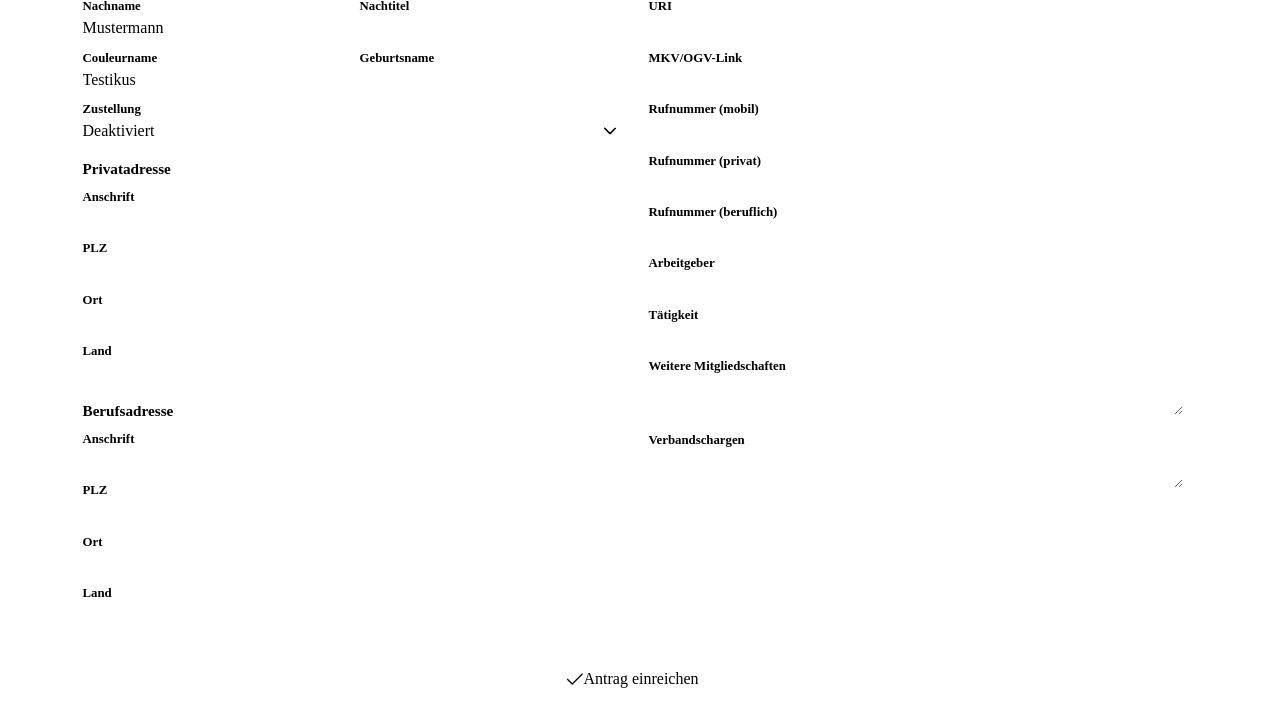
Test: MyStammdatenView › failed submission › uses the raw field name for an error on a field without a German label
This screenshot has width=1280, height=710.
(page scrolled)
Click the button "Antrag einreichen" at (633, 678), box x1=566 y1=670 x2=699 y2=688
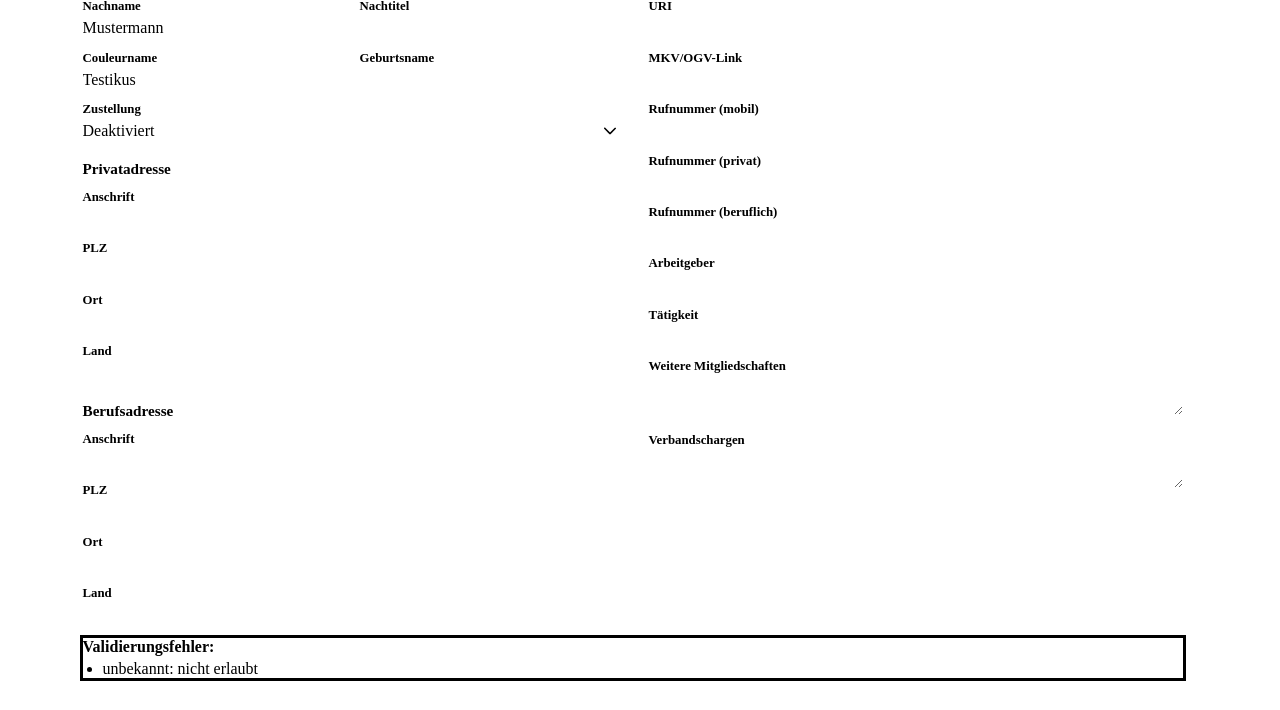
Now the list items read "unbekannt: nicht erlaubt", in this order, box x1=102 y1=660 x2=258 y2=678
